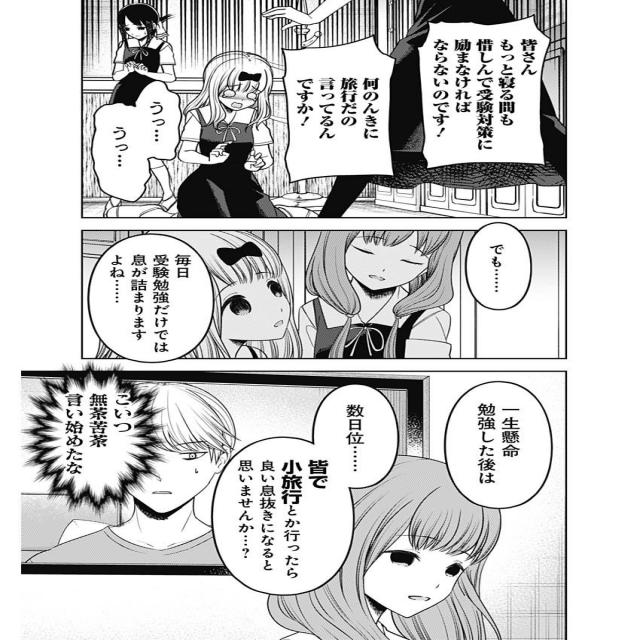Bubble: (211, 434, 354, 594), (414, 13, 555, 172), (28, 364, 160, 511), (279, 32, 399, 184), (85, 234, 214, 364), (445, 382, 552, 508), (313, 385, 398, 489), (461, 220, 534, 312), (91, 103, 151, 201), (137, 81, 185, 162)
